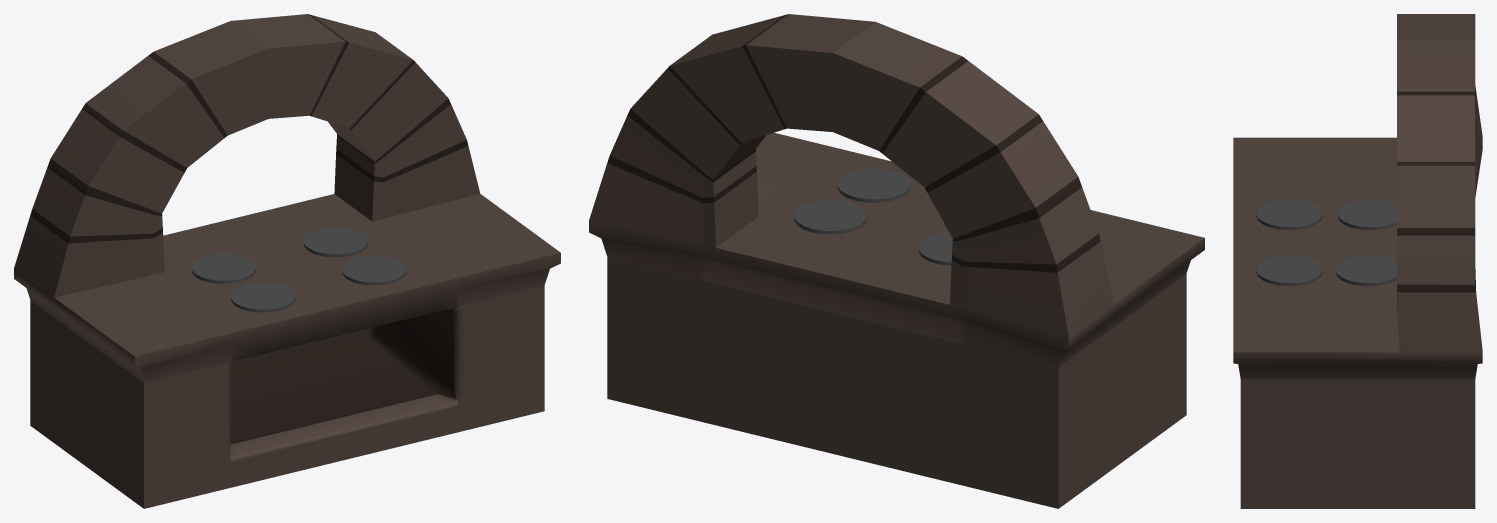
File: cooker-majigger.fbx
3 renders of one model, left to right at view 1: azimuth 30°, elevation 25°; view 2: azimuth 150°, elevation 25°; view 3: azimuth 270°, elevation 25°, orthographic. The views are drawn at different scales.
Visible parts, largest first — view 1: pCylinder5; view 2: pCylinder5; view 3: pCylinder5.
Boxes of the visible parts, x1=… form: pCylinder5: x1=14, y1=14, x2=560, y2=508; pCylinder5: x1=589, y1=14, x2=1204, y2=508; pCylinder5: x1=1233, y1=14, x2=1482, y2=508.
Bounding box in the file's own units: 191 × 152 × 93.87.
